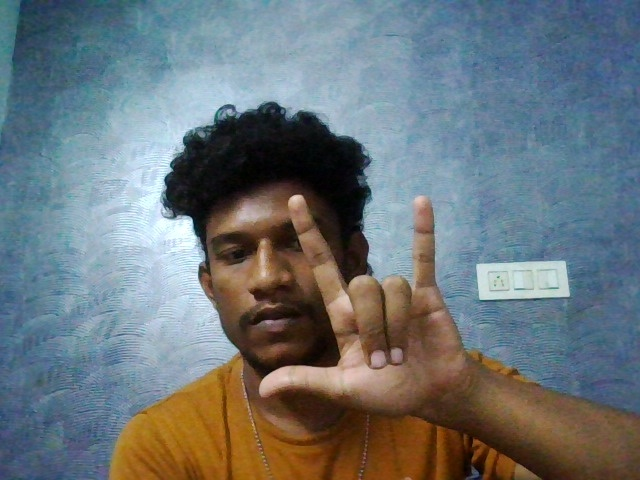i love you: (210, 170, 525, 421)
